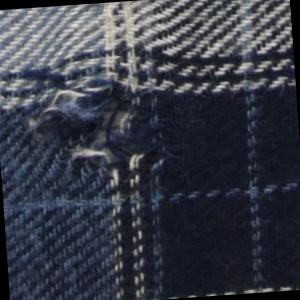Damage: (11, 43, 183, 202)
